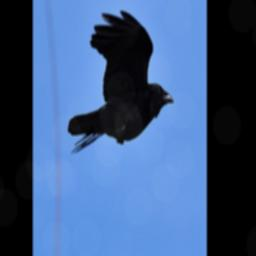Crow: (67, 10, 174, 157)
